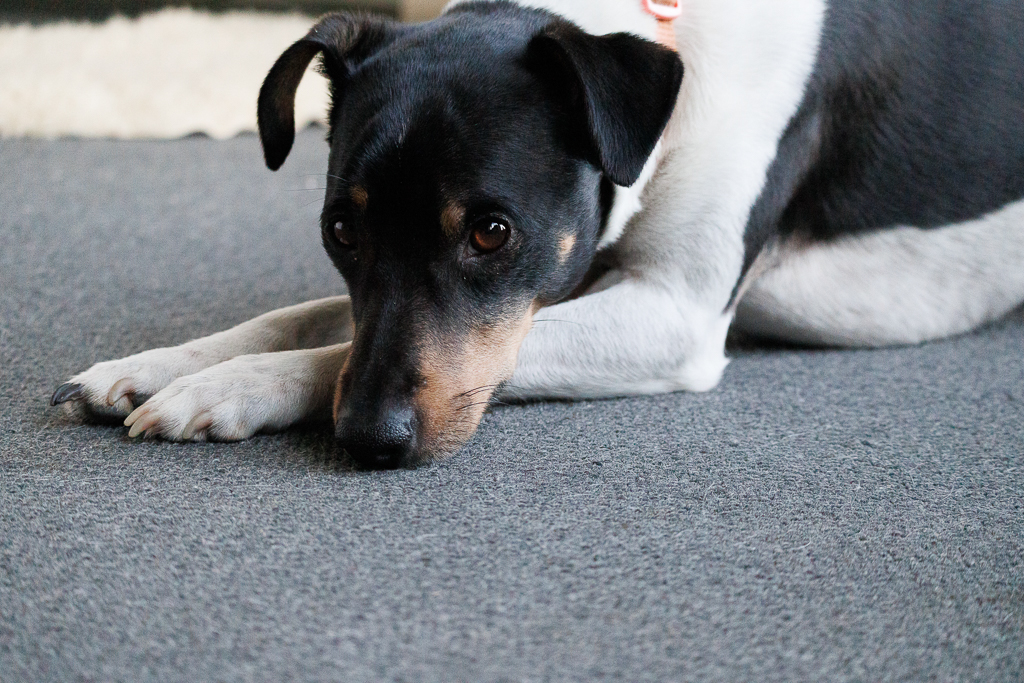Dog: (39, 0, 1023, 474)
